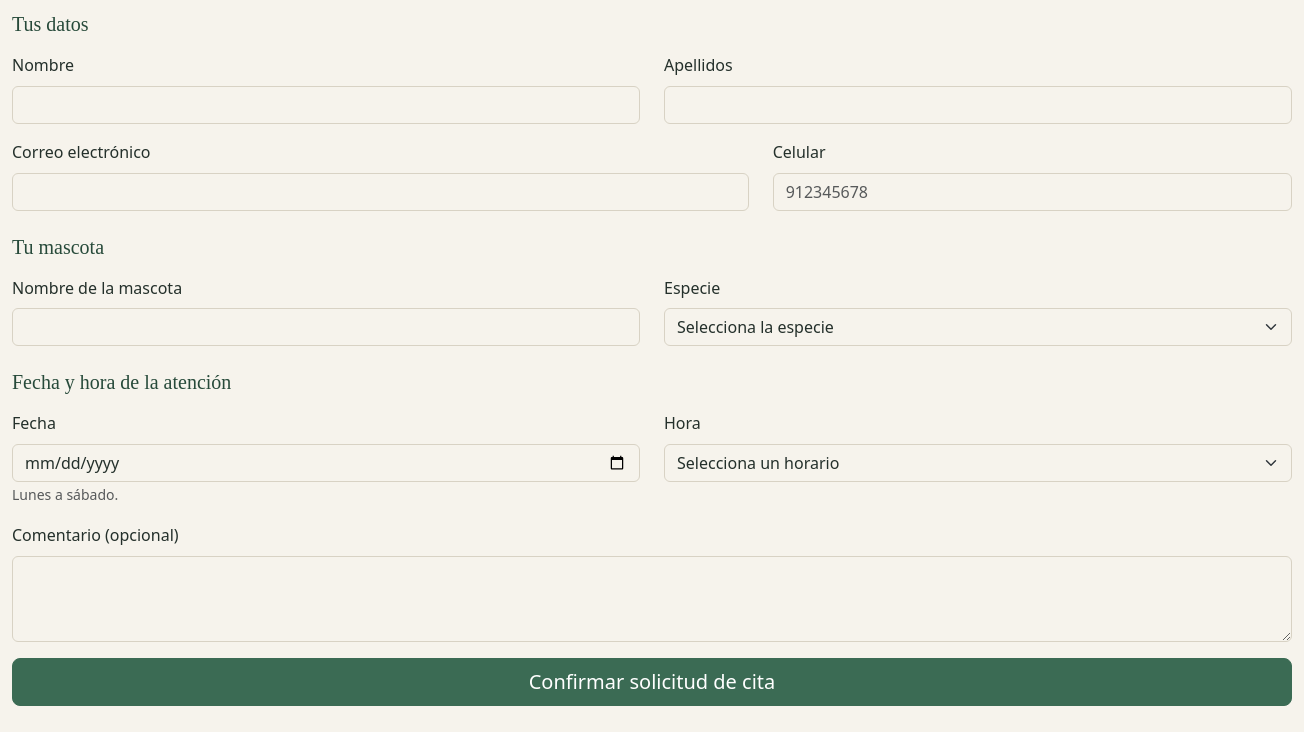
Scenario: organismo FormularioSolicitudCita › si faltan datos muestra los errores y no confirma la solicitud
Step 1. Click the button "Confirmar solicitud de cita" → [652, 682], box [12, 658, 1292, 706]
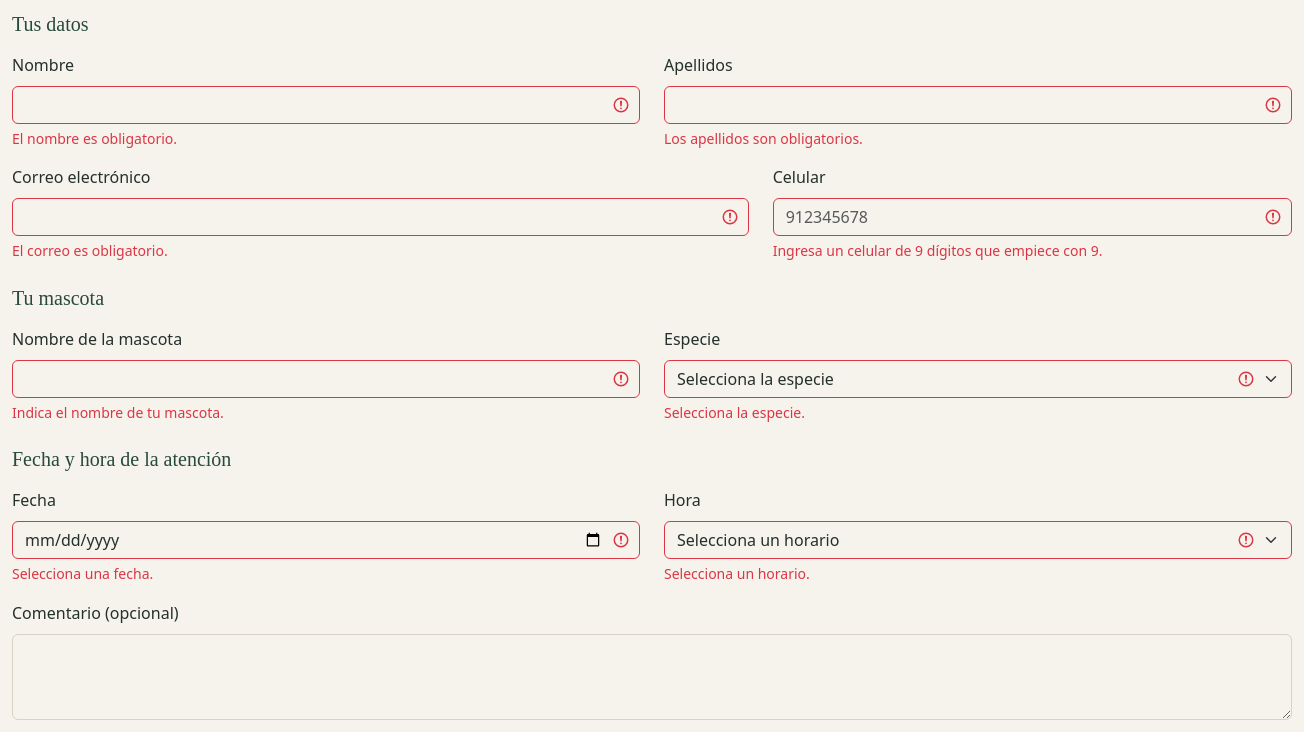
Now the text "Indica el nombre de tu mascota." is shown, box [12, 403, 224, 422]
Now the text "Selecciona una fecha." is shown, box [12, 564, 153, 583]
